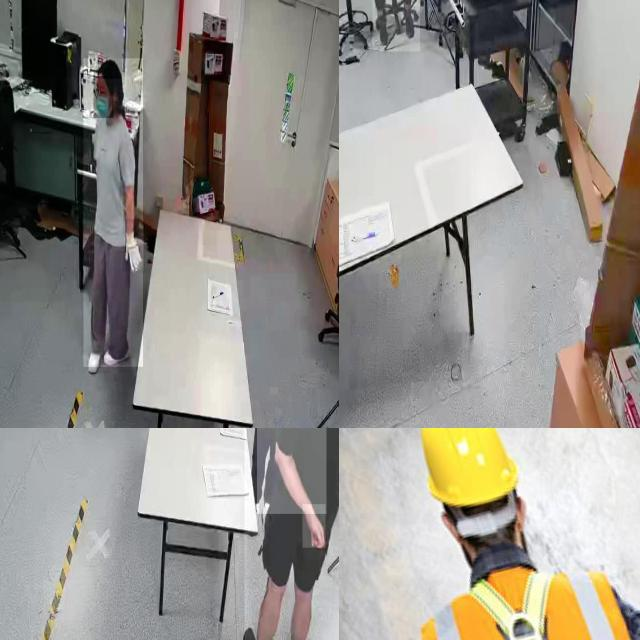Harness: (470, 572, 553, 640)
face_mask: (94, 76, 114, 118)
hand_glove: (122, 219, 146, 273)
hand_noglove: (302, 504, 326, 549)
head_nohelmet: (96, 58, 122, 80)
person: (244, 428, 339, 640), (84, 58, 144, 368), (257, 428, 326, 514), (372, 0, 420, 52)
shoes: (102, 339, 132, 369), (82, 334, 102, 378), (373, 6, 391, 47), (400, 1, 416, 45), (238, 619, 267, 640)
